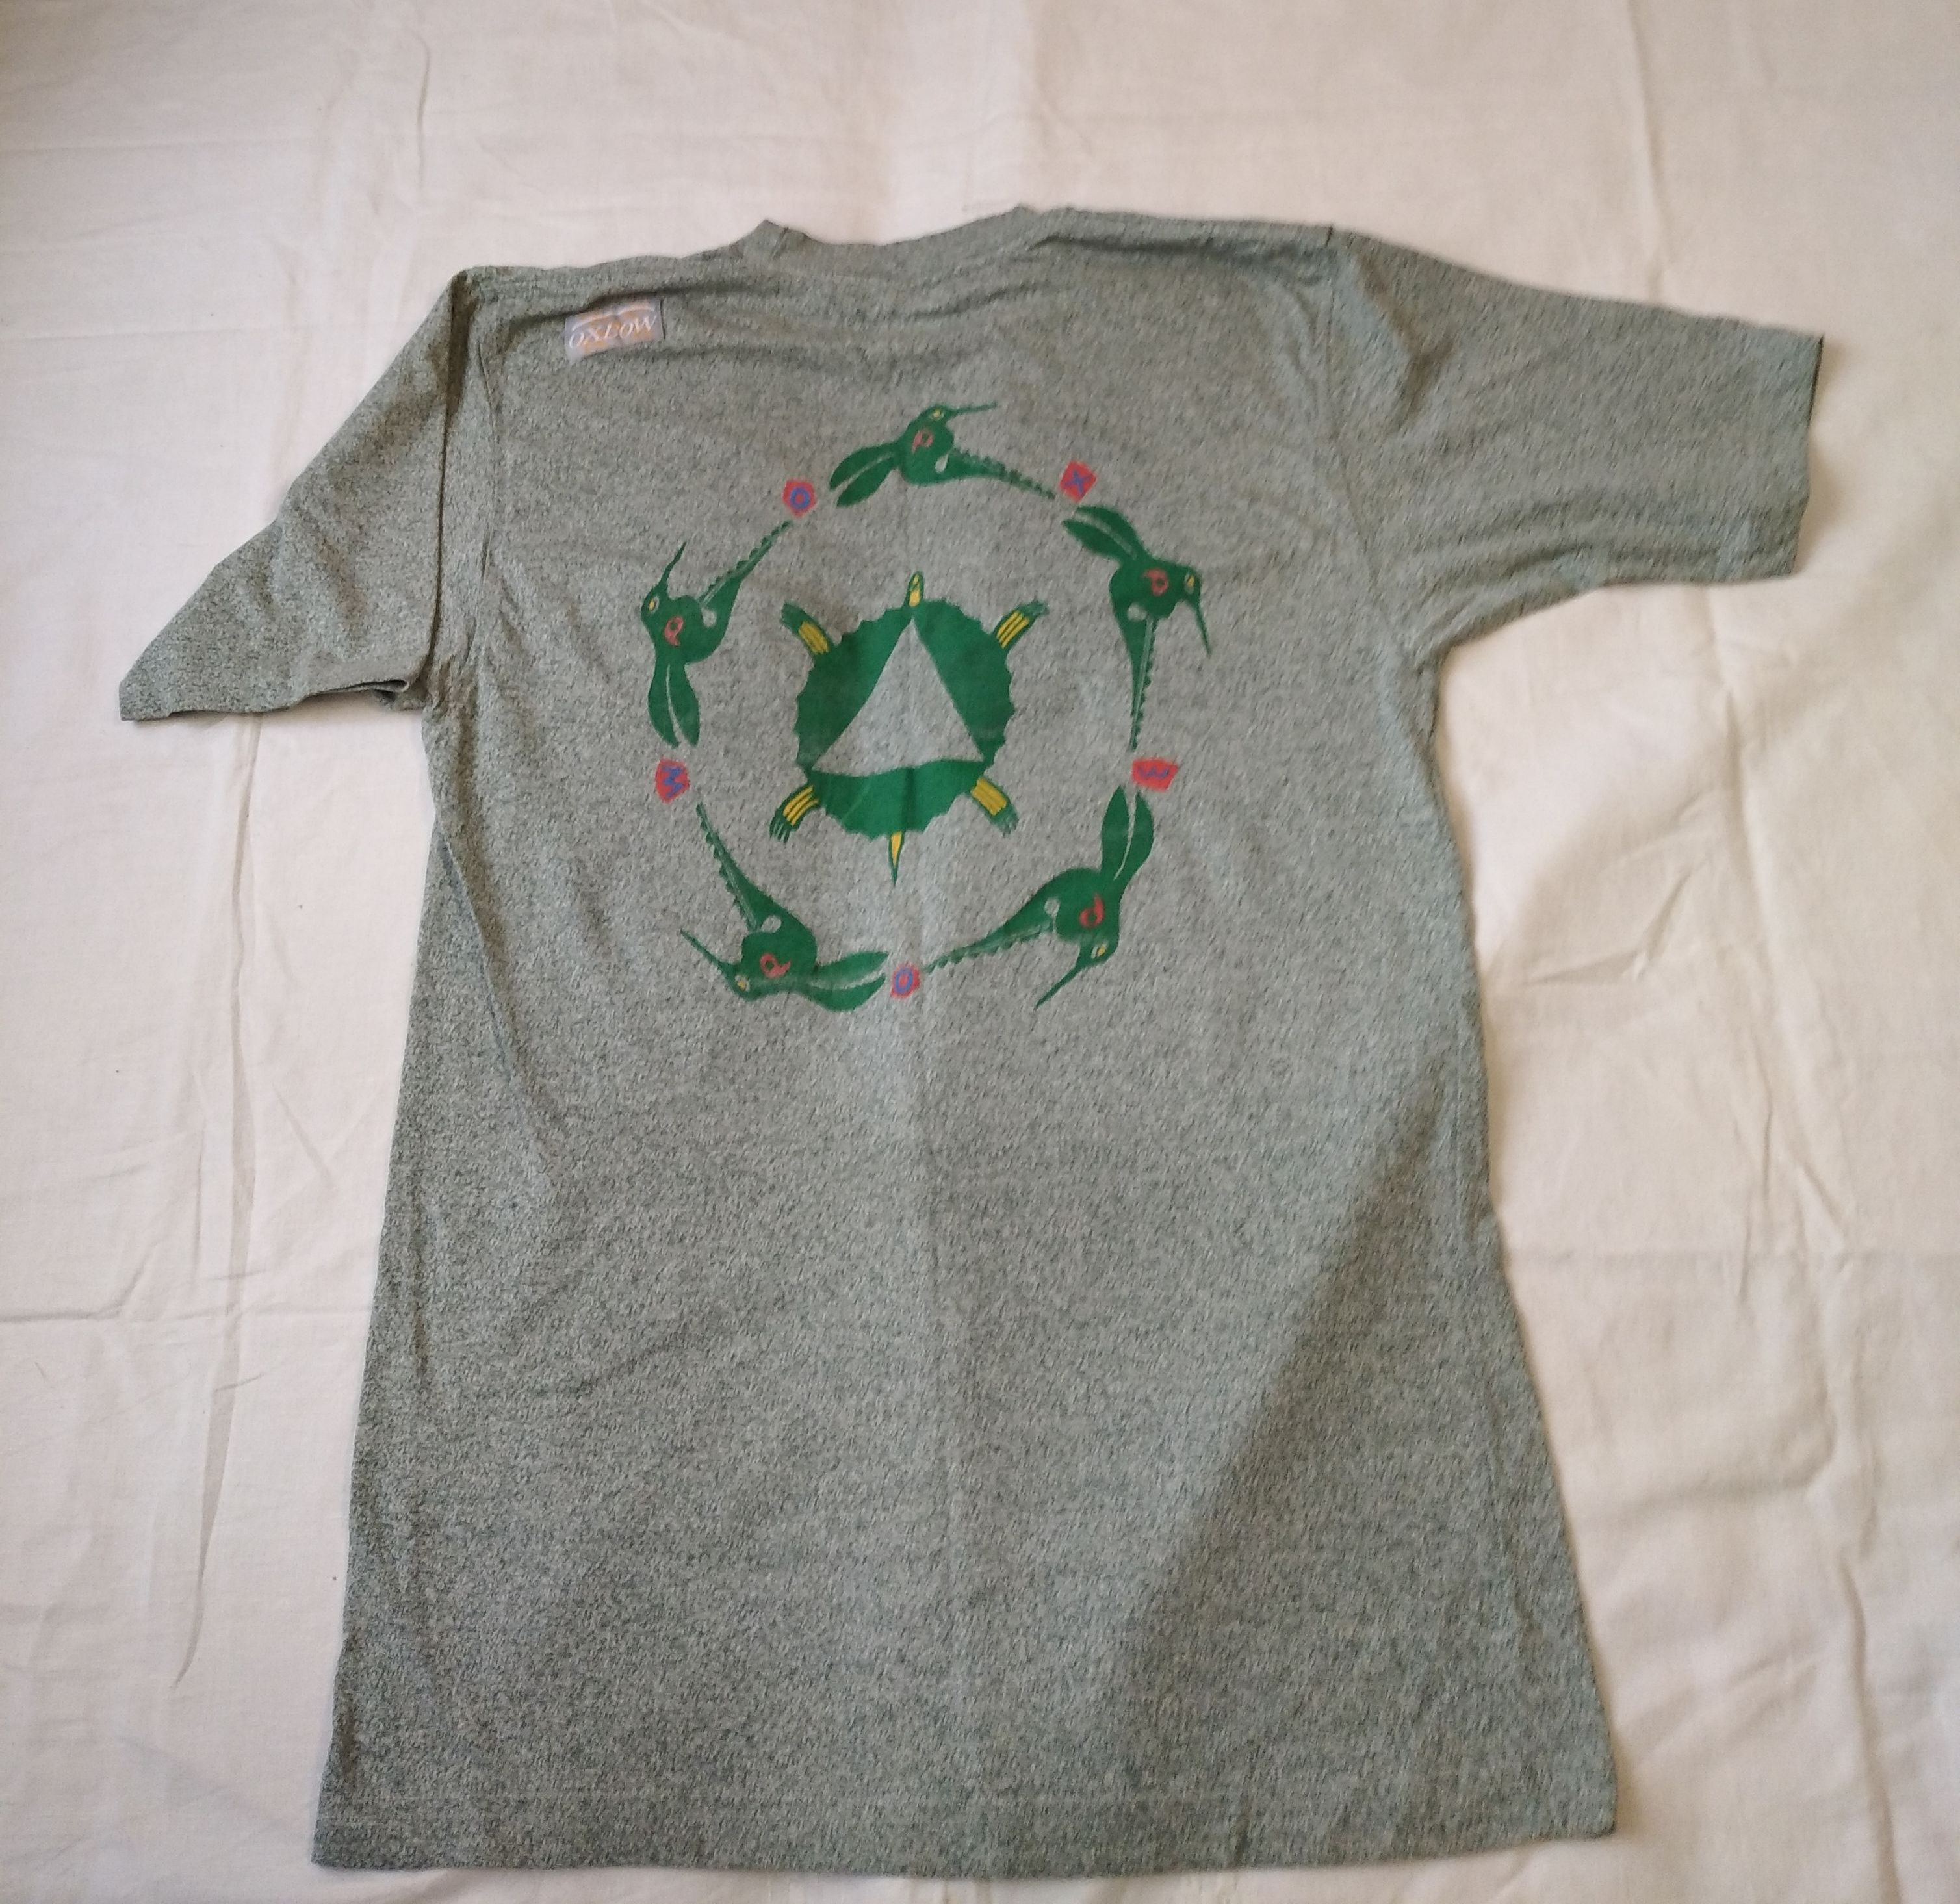clothes: (136, 206, 1820, 1904)
